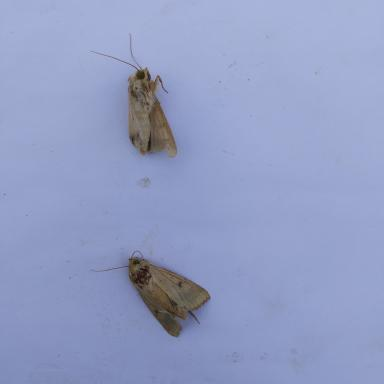abw: (88, 32, 179, 160), (87, 248, 212, 340)
